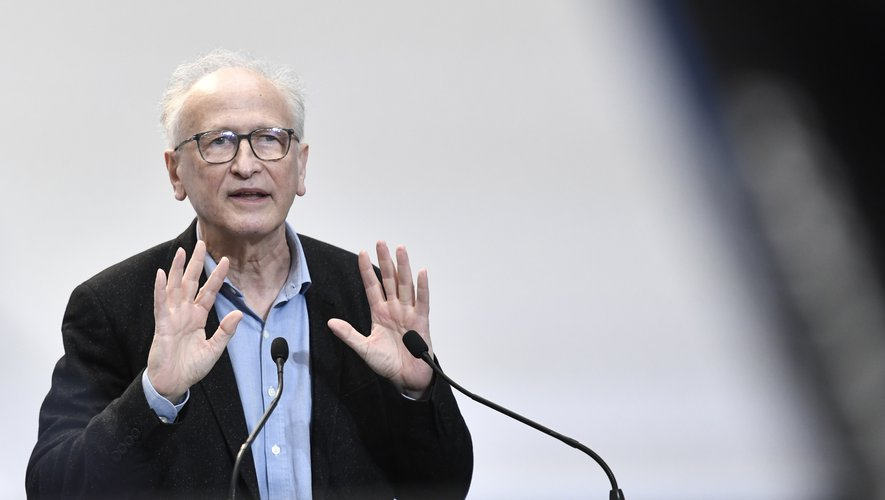without_mask: (200, 102, 292, 210)
